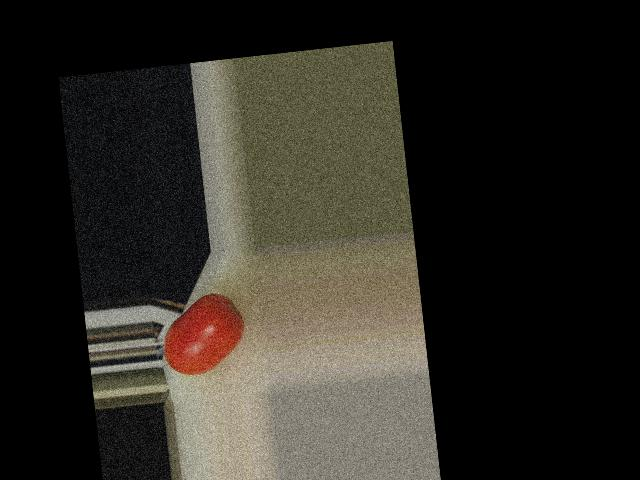tomato: (158, 290, 248, 378)
